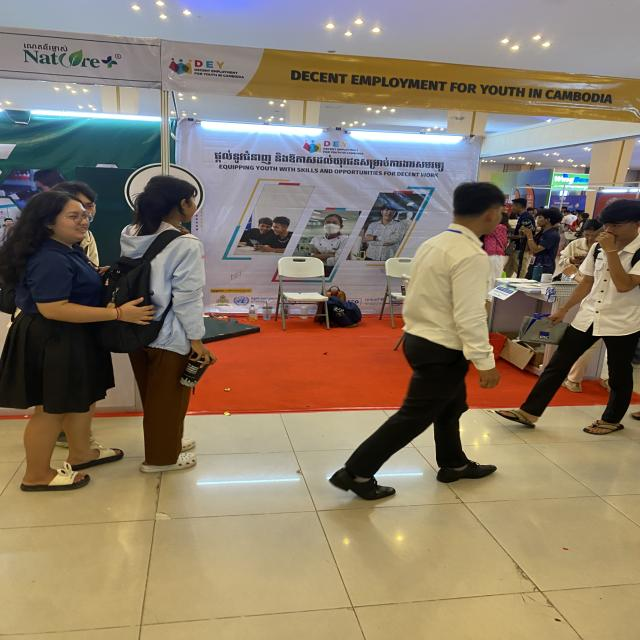1: (210, 149, 448, 173)
Yolov11kh: (20, 40, 71, 55)
